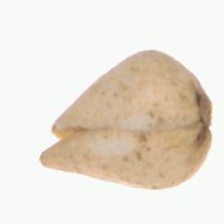L1: (37, 118, 85, 173), (194, 79, 214, 151)
L2: (39, 49, 212, 190)
